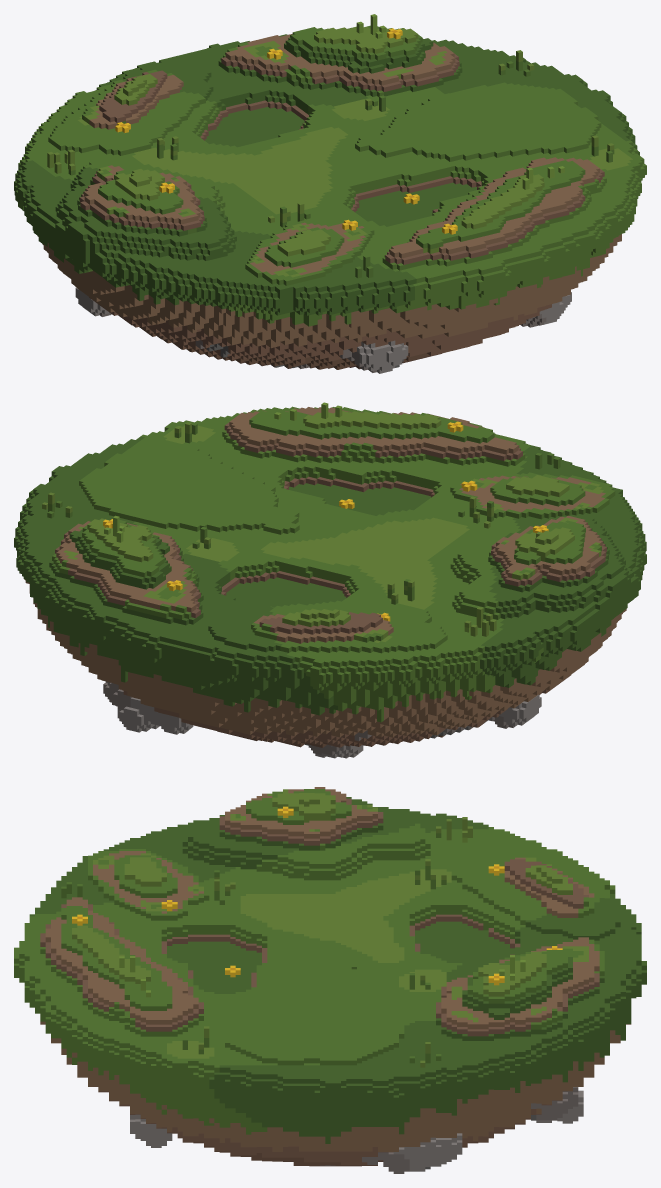
The model's file is isla.obj.
3 views of the same model, one above another, from view 1: azimuth 30°, elevation 25°; view 2: azimuth 150°, elevation 25°; view 3: azimuth 270°, elevation 25° (orthographic). The views are drawn at different scales.
Bounding box in the file's own units: 12.5 × 4.6 × 12.
Materials: 1 (1 with a texture image).
